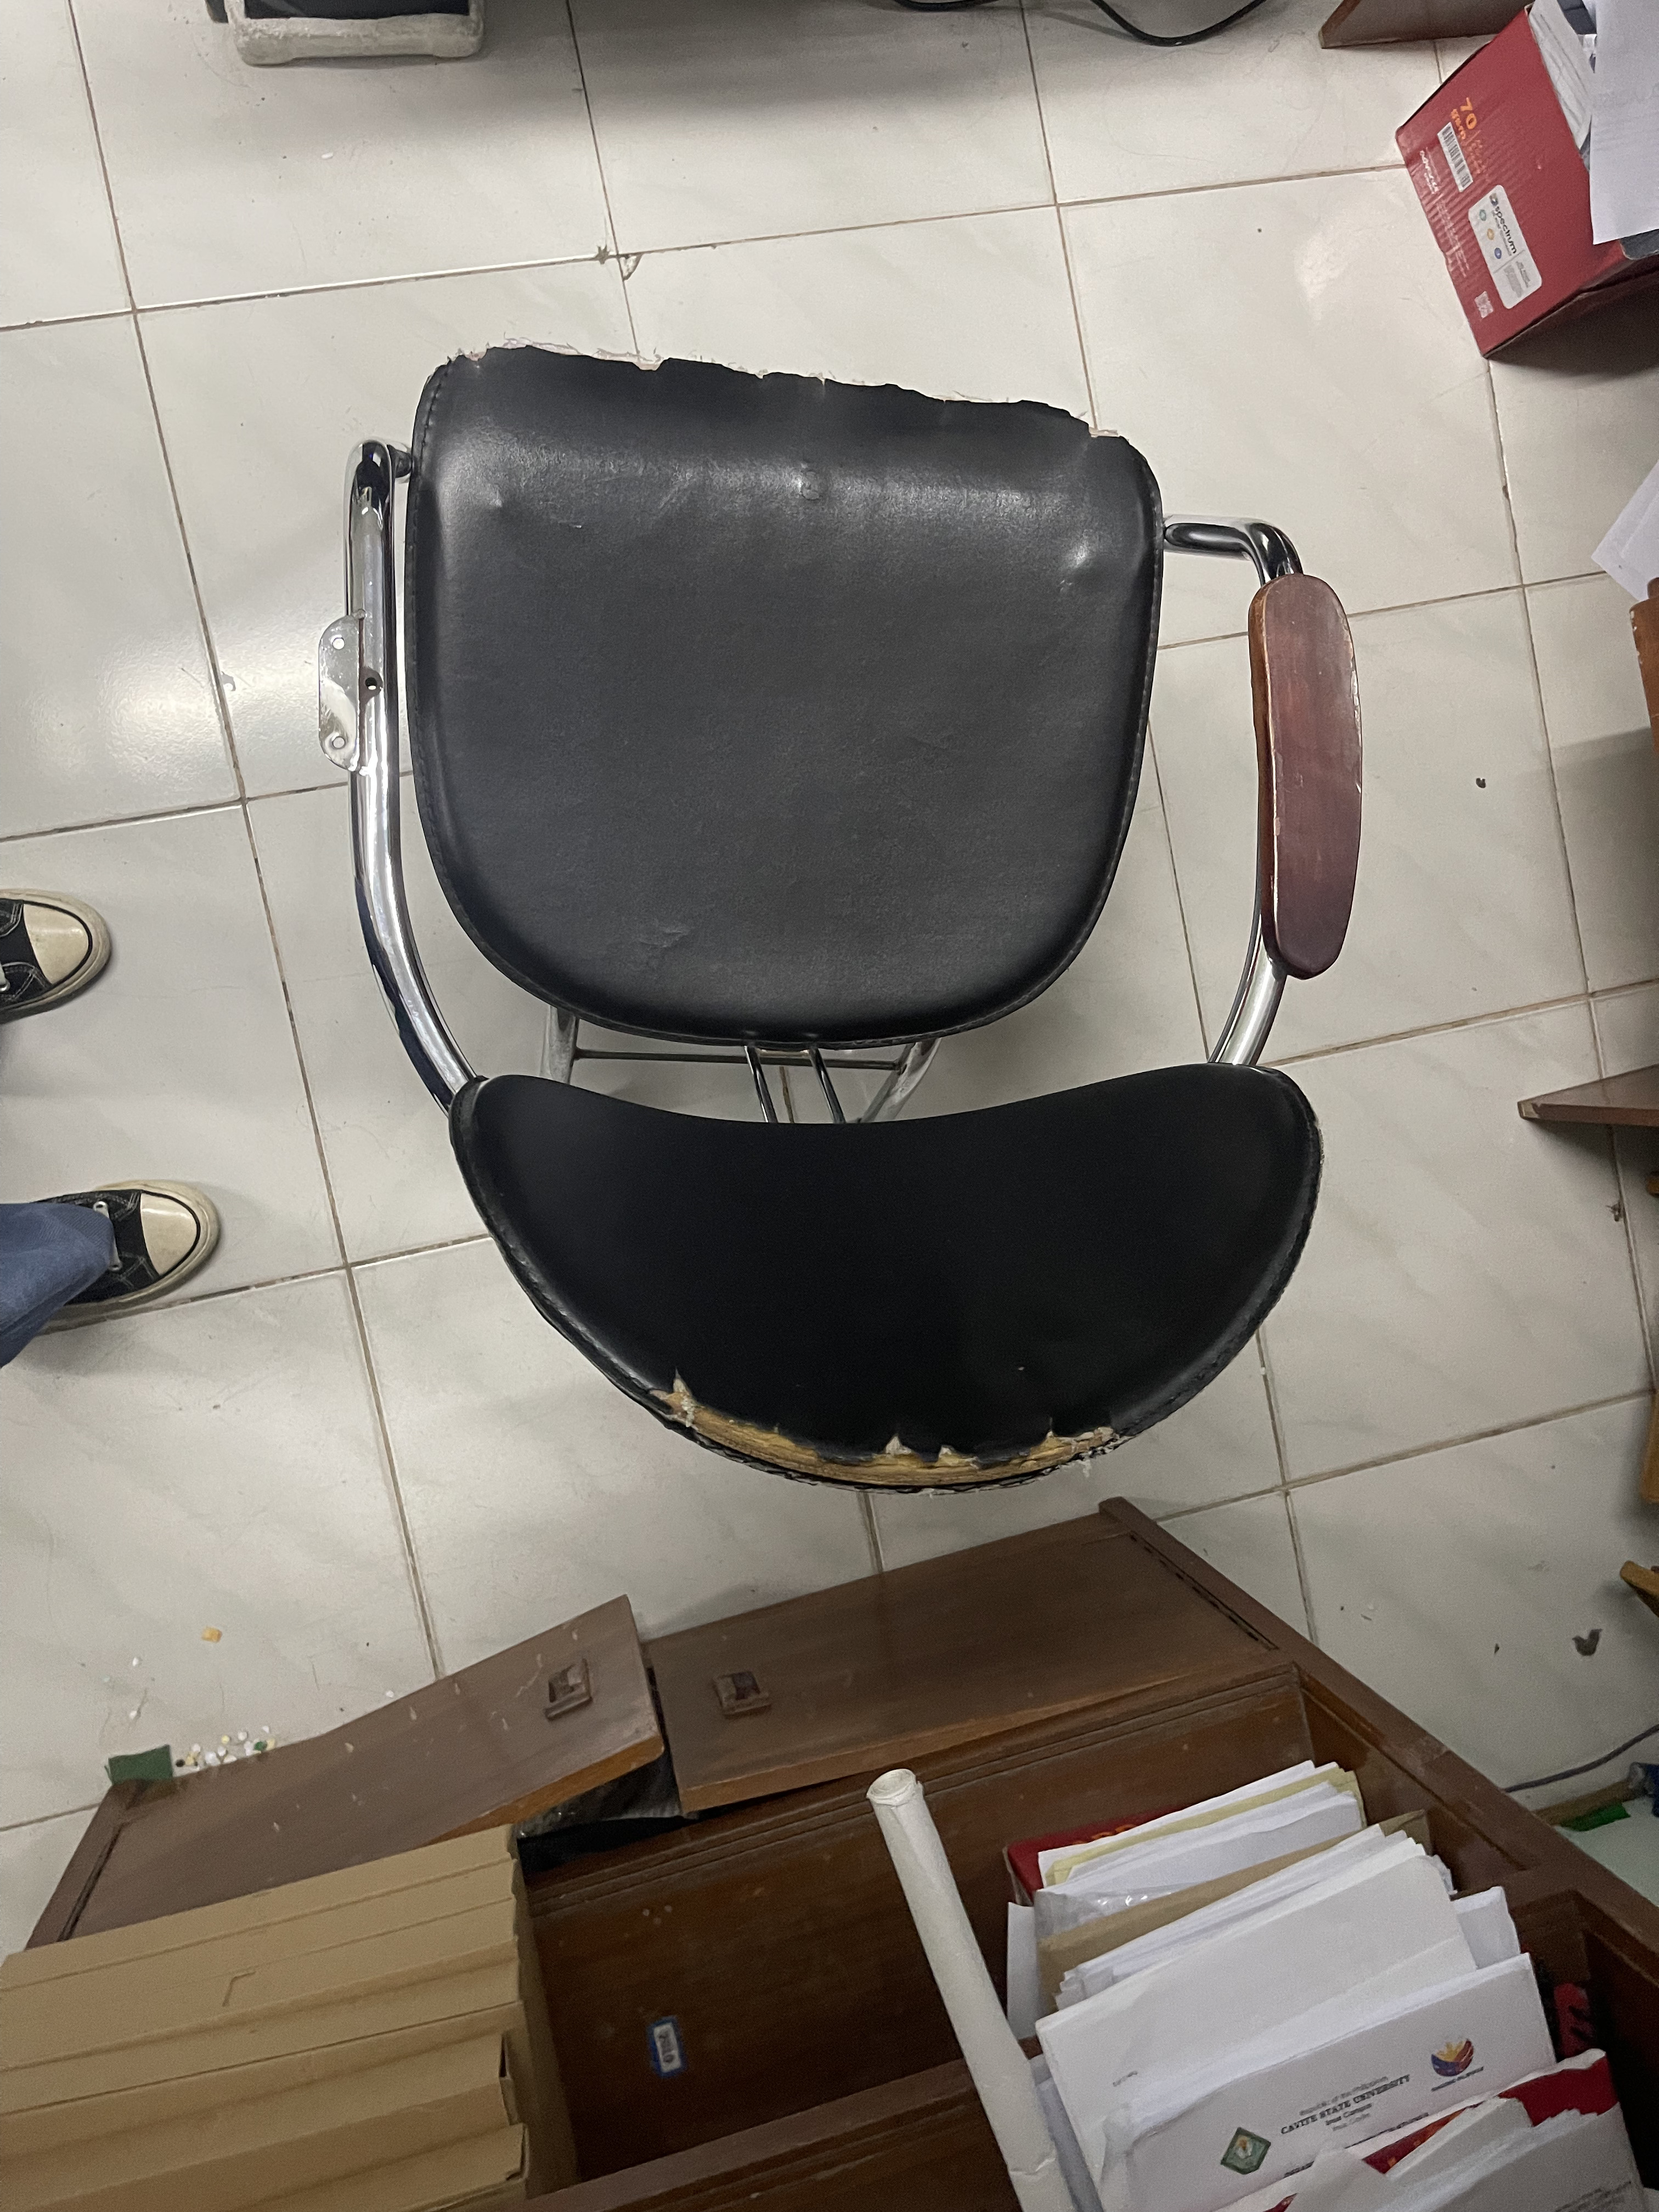chair1: (307, 336, 1385, 1505)
